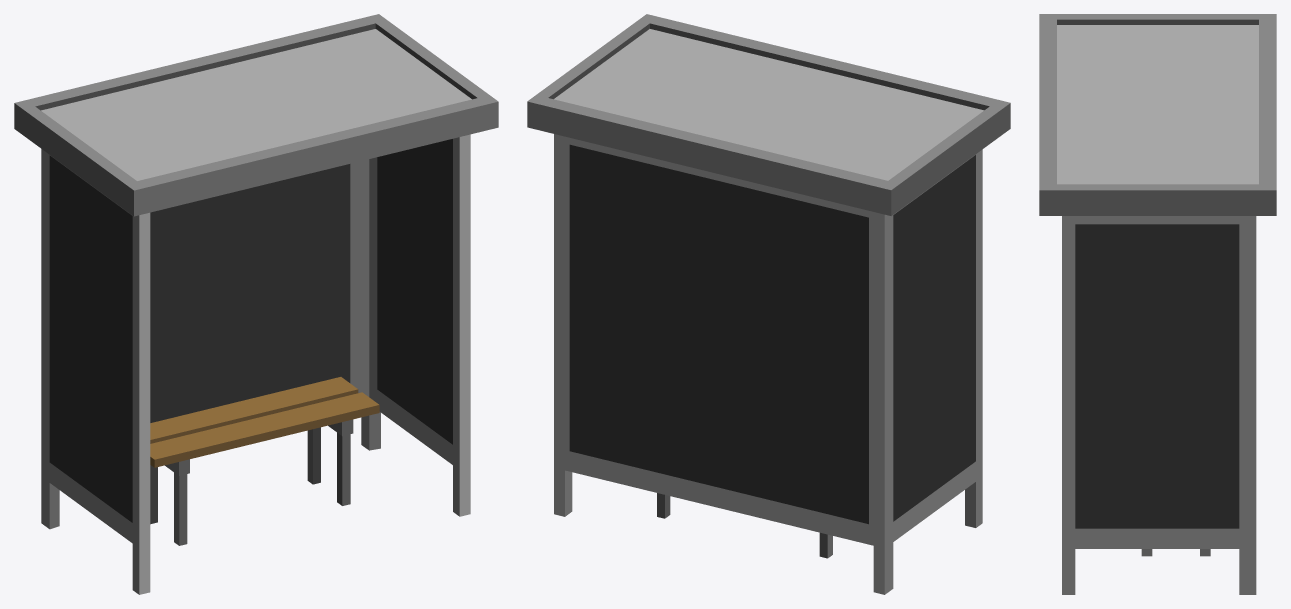
File: SM_BusStop_01.fbx
3 renders of one model, left to right at view 1: azimuth 30°, elevation 25°; view 2: azimuth 150°, elevation 25°; view 3: azimuth 270°, elevation 25°, orthographic.
Visible parts, largest first — view 1: SM_BusStop_01; view 2: SM_BusStop_01; view 3: SM_BusStop_01.
Part boxes in pixels (x1,y1,x2,y2): SM_BusStop_01: (14,14,498,594); SM_BusStop_01: (527,14,1010,594); SM_BusStop_01: (1039,14,1276,594).
Bounding box in the file's own units: 4.19 × 4.58 × 2.38.
